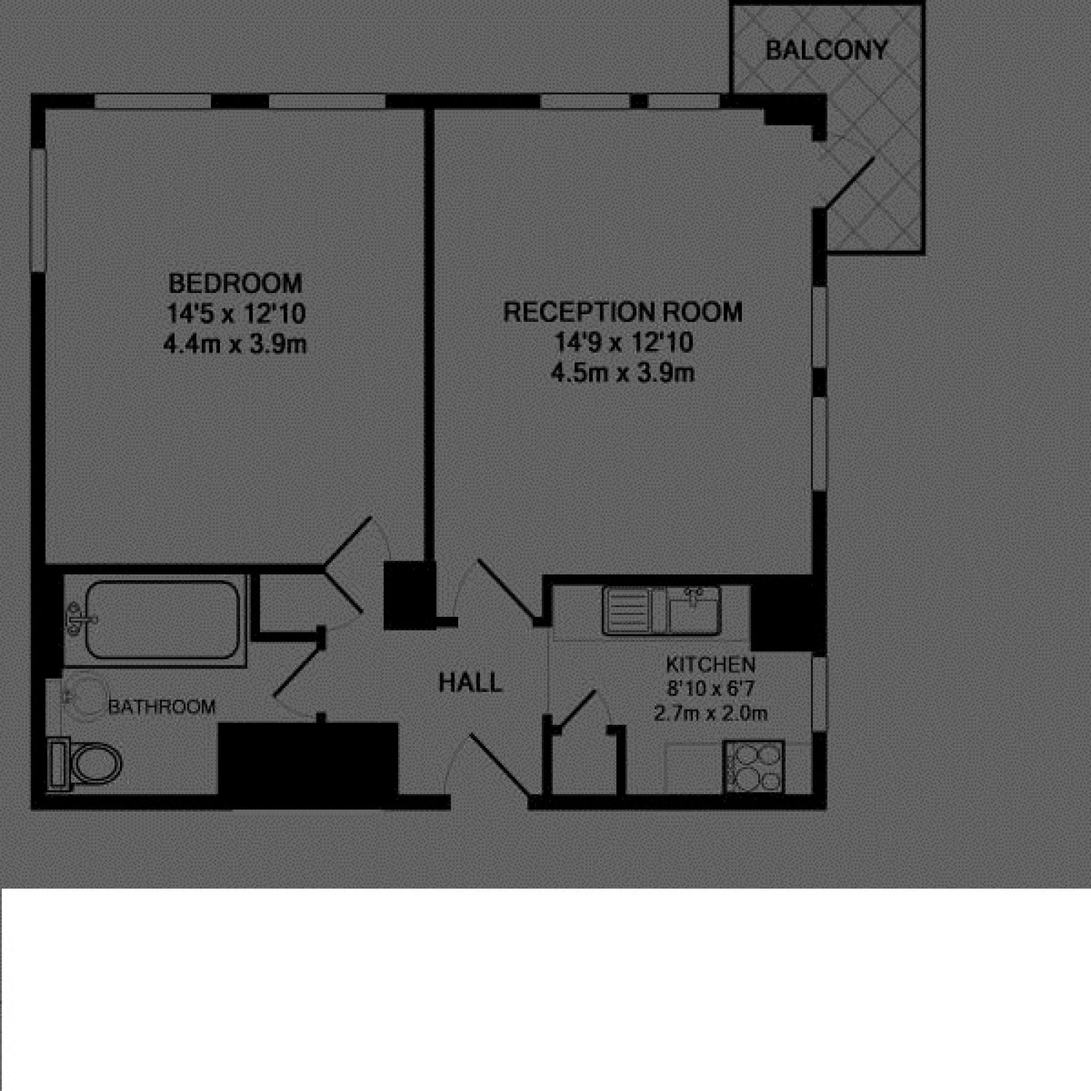wall: (30, 92, 827, 112), (29, 794, 828, 811), (218, 723, 401, 794), (30, 113, 48, 561), (810, 115, 827, 573), (422, 110, 435, 559), (28, 561, 435, 573), (750, 587, 813, 653), (29, 573, 63, 681), (541, 575, 830, 587), (812, 589, 828, 793), (383, 573, 437, 618), (383, 618, 554, 632), (30, 681, 48, 793), (316, 641, 327, 724), (247, 574, 263, 631), (248, 630, 325, 640), (315, 574, 326, 630), (540, 587, 554, 617)
